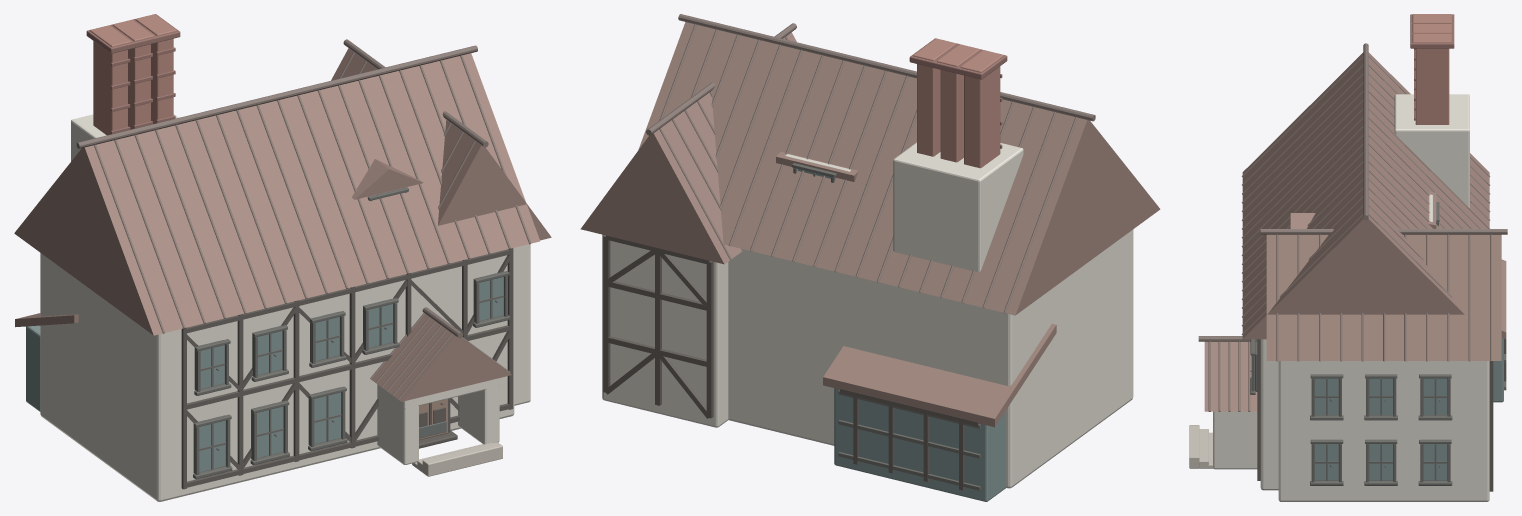
Rendered from hudec-memorial-v2-hero.glb.
3 views of the same model, side by side, from view 1: azimuth 30°, elevation 25°; view 2: azimuth 150°, elevation 25°; view 3: azimuth 270°, elevation 25° (orthographic). The views are drawn at different scales.
Visible parts, largest first — view 1: hudec-memorial-v2-hero; view 2: hudec-memorial-v2-hero; view 3: hudec-memorial-v2-hero.
Part boxes in pixels (x1,y1,x2,y2): hudec-memorial-v2-hero: (14,14,551,501); hudec-memorial-v2-hero: (580,14,1160,501); hudec-memorial-v2-hero: (1189,14,1507,501).
Bounding box in the file's own units: 10.21 × 9 × 7.61.
